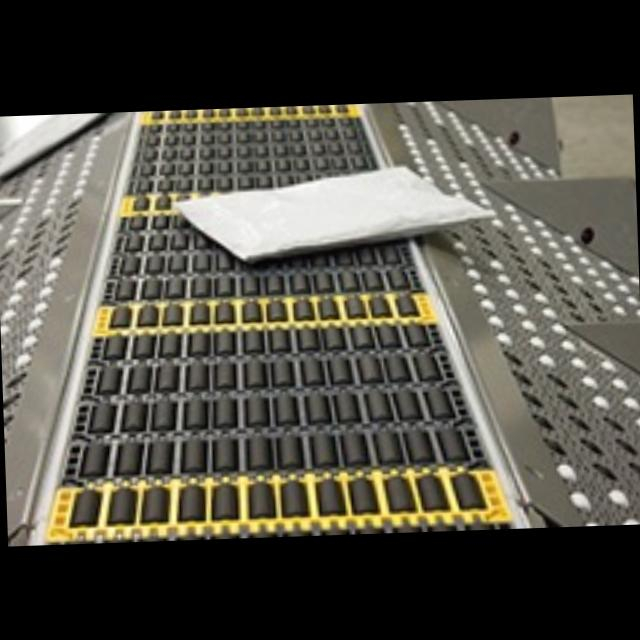mailer: (176, 164, 479, 266)
